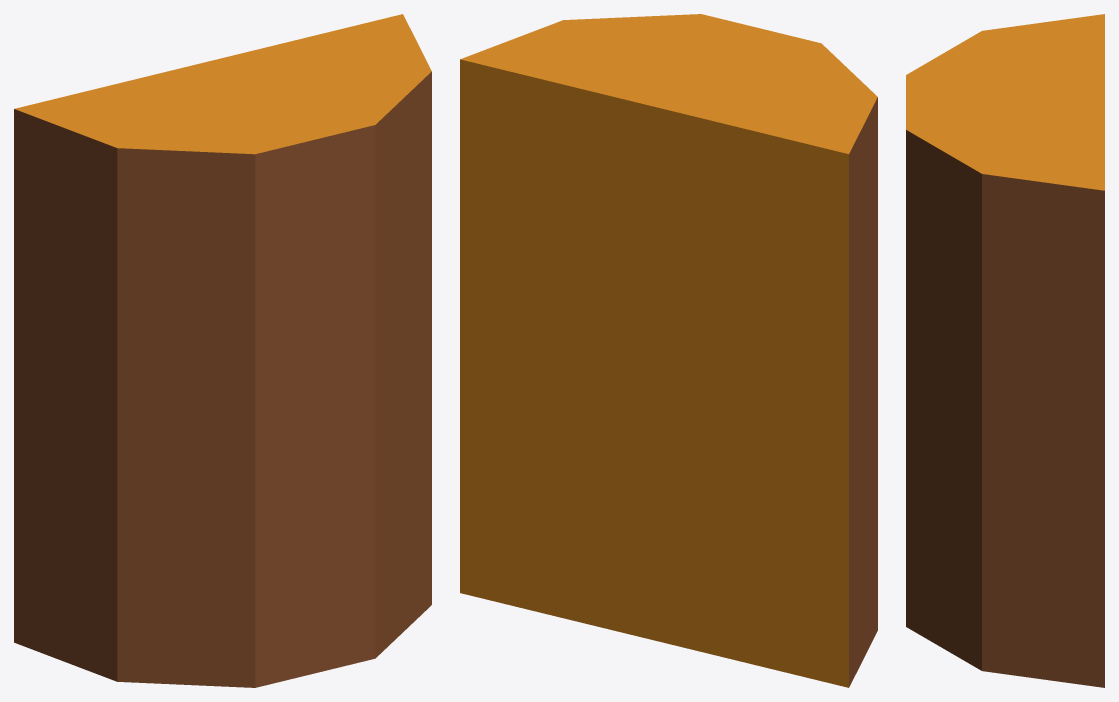
File: LowPolyLog.fbx
3 views of the same model, side by side, from view 1: azimuth 30°, elevation 25°; view 2: azimuth 150°, elevation 25°; view 3: azimuth 270°, elevation 25° (orthographic). The views are drawn at different scales.
Visible parts, largest first — view 1: Cylinder; view 2: Cylinder; view 3: Cylinder.
Part boxes in pixels (bbox=[...]): Cylinder: bbox=[14, 14, 431, 687]; Cylinder: bbox=[460, 14, 877, 687]; Cylinder: bbox=[906, 14, 1104, 687].
Bounding box in the file's own units: 200 × 262 × 95.11.
